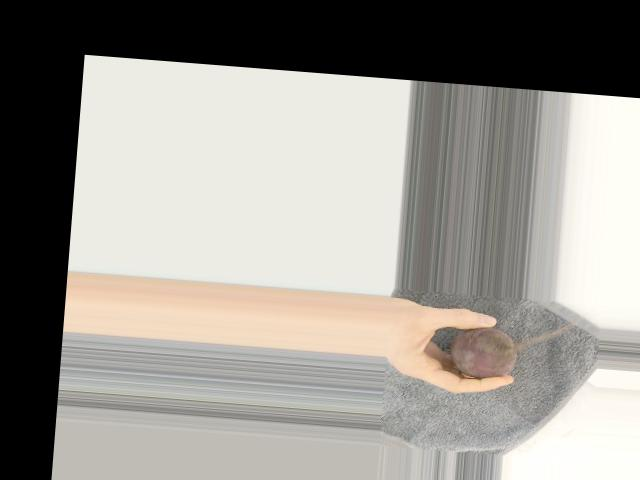beet: (449, 324, 518, 380)
